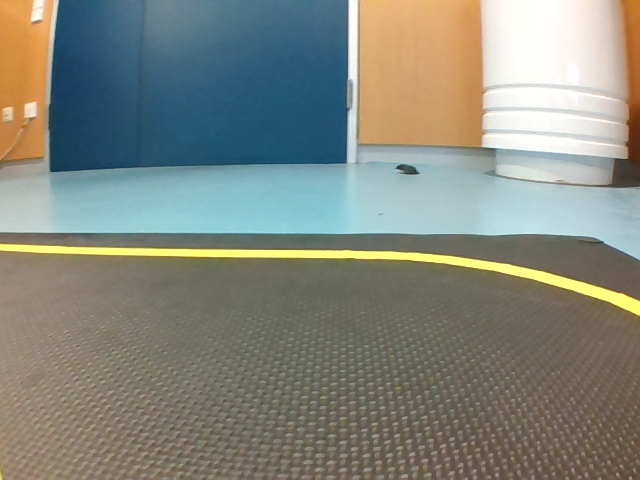30: (597, 67, 640, 158)
no30: (68, 115, 88, 148)
